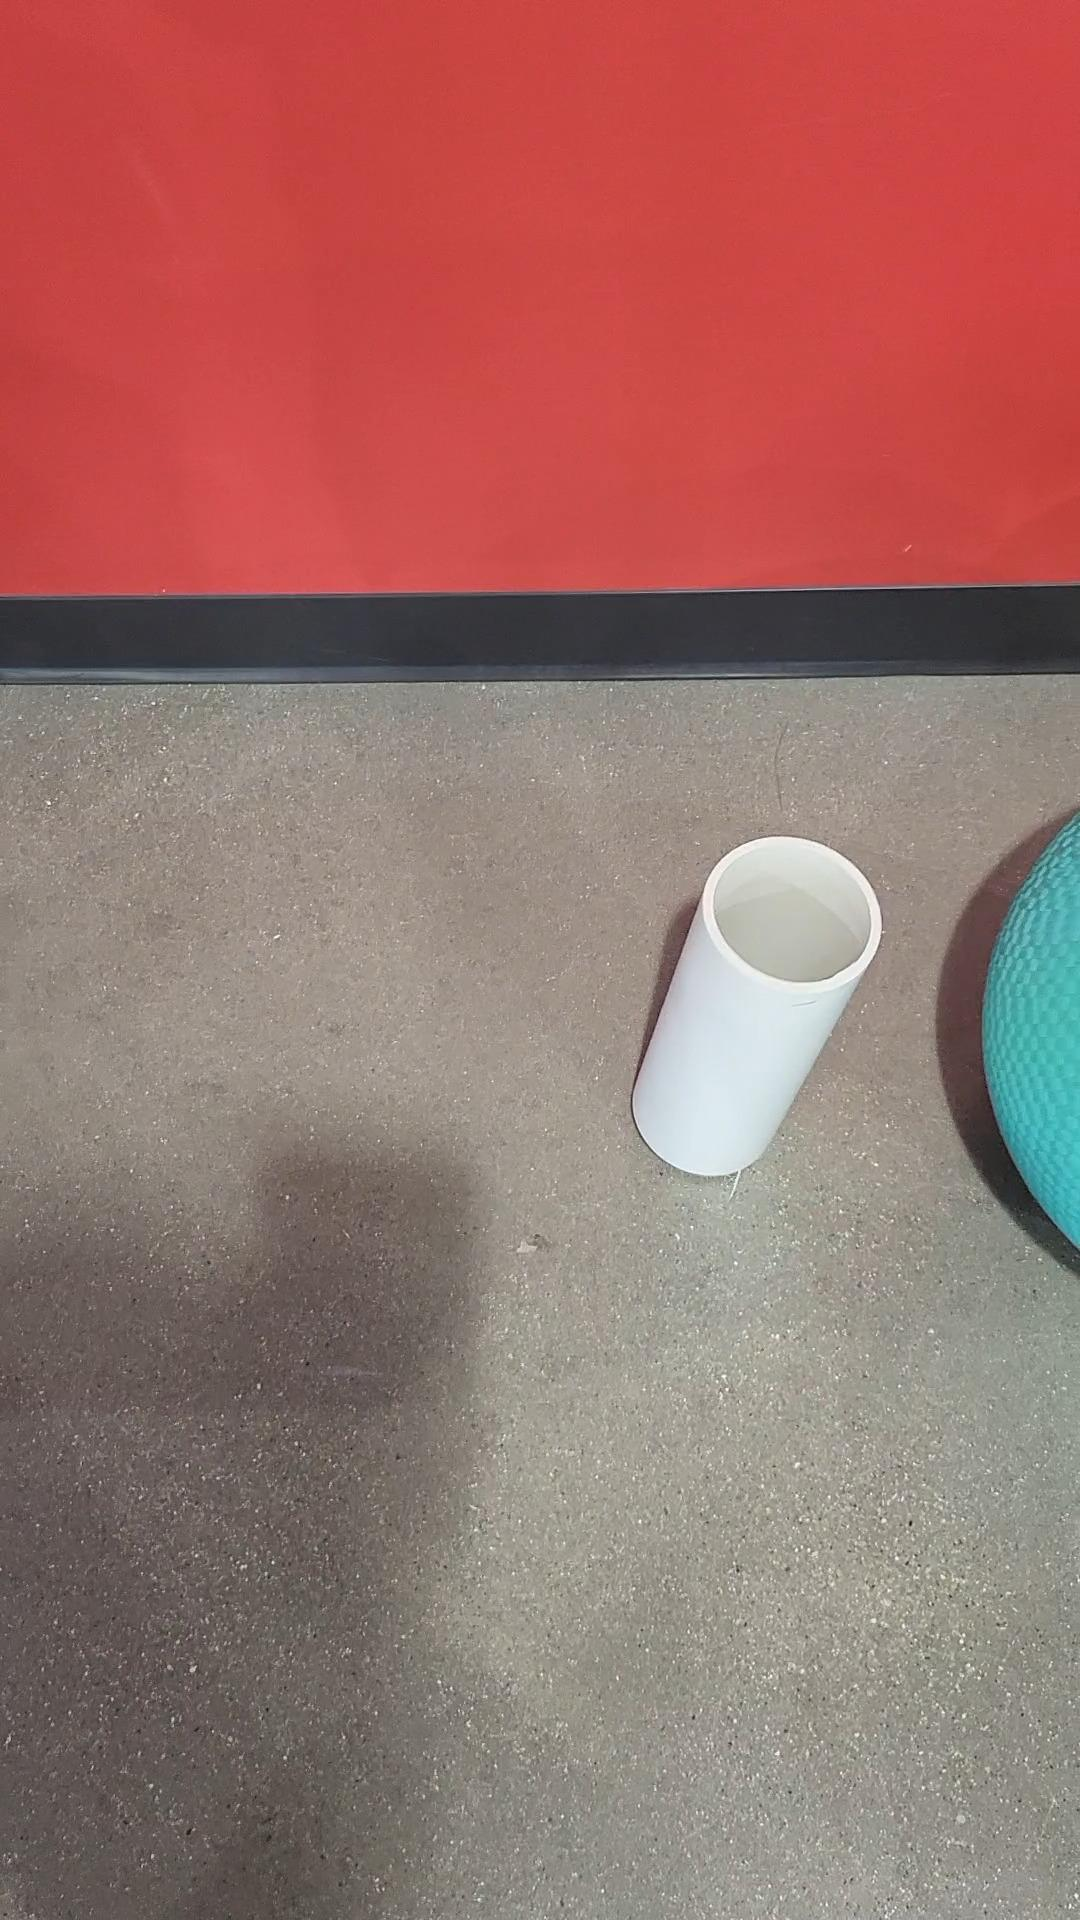algae: (954, 806, 1079, 1289)
coral: (631, 826, 890, 1177)
